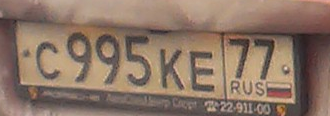character: (63, 30, 94, 87), (123, 32, 154, 87), (95, 30, 124, 87), (185, 47, 218, 93), (158, 47, 186, 94), (34, 39, 61, 82), (252, 35, 277, 81), (228, 35, 251, 80)
